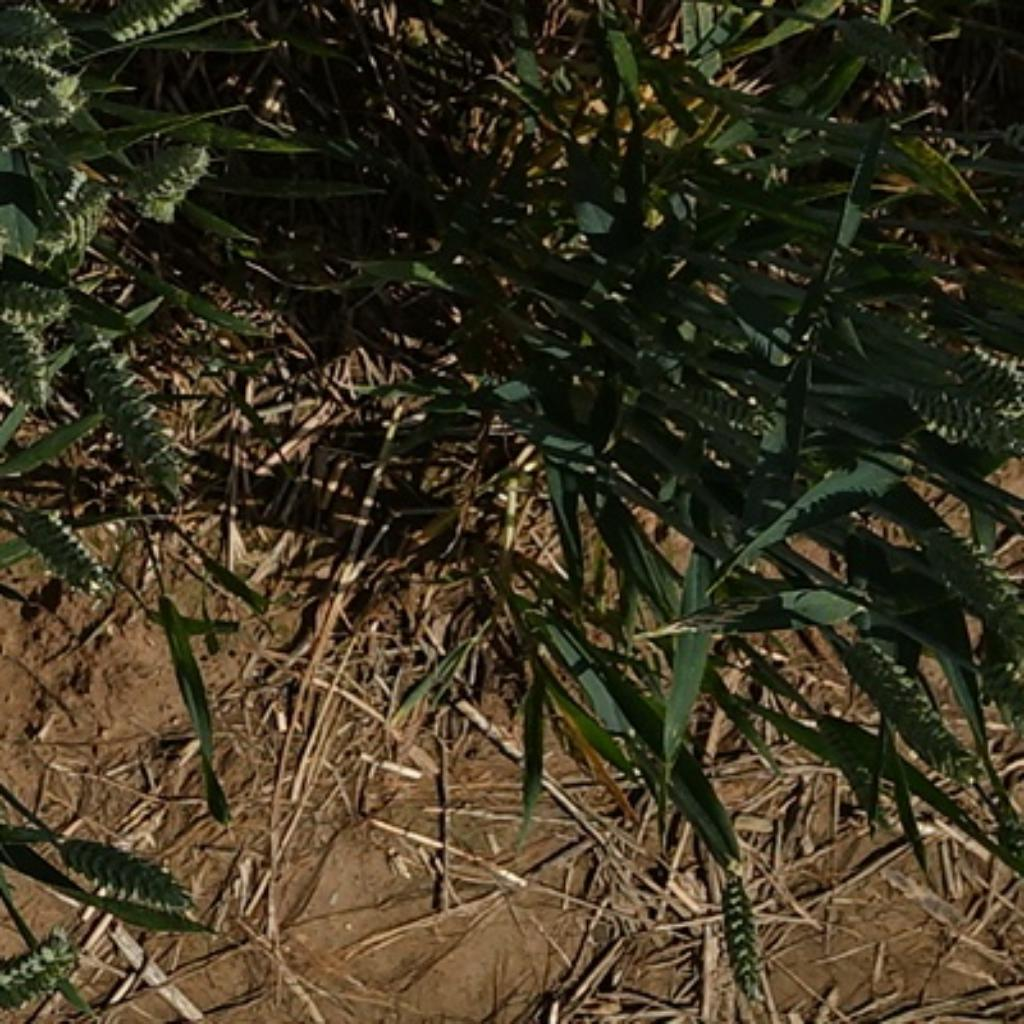0-0: (838, 638, 976, 781), (79, 313, 191, 483), (920, 515, 1023, 643), (56, 829, 197, 913), (24, 152, 121, 260), (908, 385, 1010, 480), (117, 132, 220, 224), (660, 373, 775, 453), (825, 11, 932, 95), (17, 499, 112, 591), (1, 50, 85, 133), (944, 331, 1024, 412), (0, 934, 79, 1016), (716, 878, 765, 998), (0, 304, 58, 404), (0, 0, 85, 62), (974, 646, 1023, 739), (0, 268, 69, 332), (97, 0, 212, 38), (0, 936, 5, 1024)
